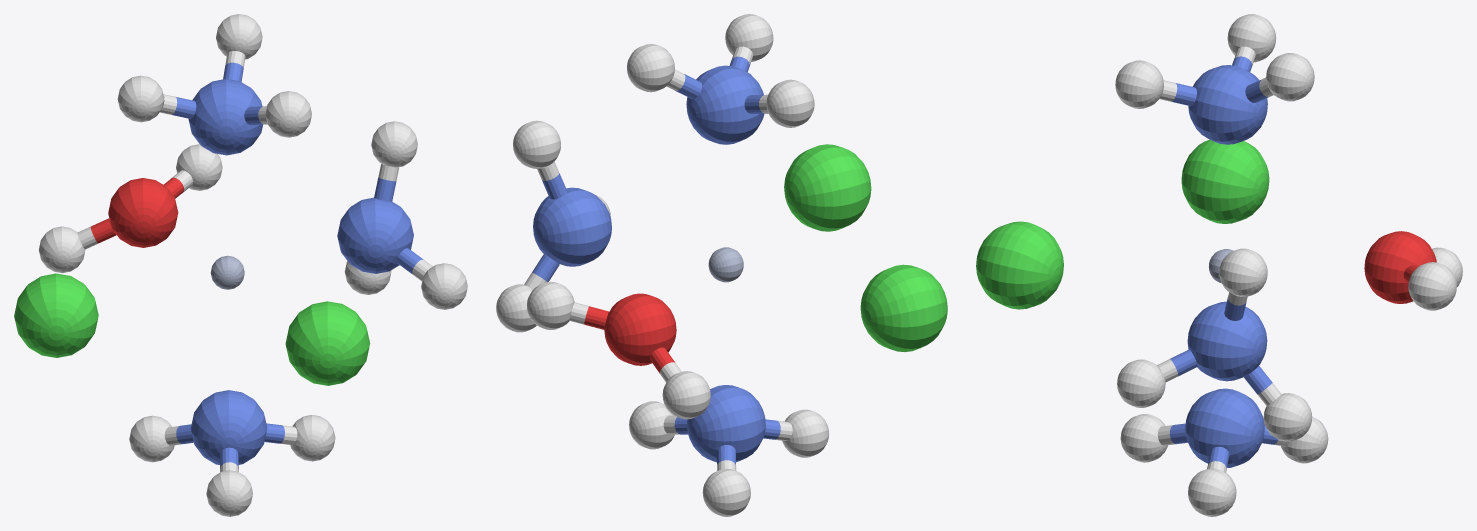
Rendered from levo-mer-acuotriammin-cis-diclorohierro.gltf.
The picture shows the model from 3 angles, left to right: view 1: azimuth 30°, elevation 25°; view 2: azimuth 150°, elevation 25°; view 3: azimuth 270°, elevation 25°; orthographic projection. The views are drawn at different scales.
Visible parts, largest first — view 1: ShapeSphere.010_ShapeSphere.029, ShapeSphere.011_ShapeSphere.030, ShapeSphere.004_ShapeSphere.023, ShapeSphere.001_ShapeSphere.020, ShapeSphere.007_ShapeSphere.026, ShapeSphere.015_ShapeSphere.034, ShapeSphere.006_ShapeSphere.025, ShapeSphere.009_ShapeSphere.028, ShapeSphere.008_ShapeSphere.027, ShapeSphere.002_ShapeSphere.021, ShapeSphere.005_ShapeSphere.024, ShapeSphere.017_ShapeSphere (+6 smaller); view 2: ShapeSphere.010_ShapeSphere.029, ShapeSphere.011_ShapeSphere.030, ShapeSphere.004_ShapeSphere.023, ShapeSphere.007_ShapeSphere.026, ShapeSphere.001_ShapeSphere.020, ShapeSphere.015_ShapeSphere.034, ShapeSphere.008_ShapeSphere.027, ShapeSphere.014_ShapeSphere.033, ShapeSphere.017_ShapeSphere, ShapeSphere.003_ShapeSphere.022, ShapeSphere.005_ShapeSphere.024, ShapeSphere.016_ShapeSphere.035 (+5 smaller); view 3: ShapeSphere.010_ShapeSphere.029, ShapeSphere.011_ShapeSphere.030, ShapeSphere.001_ShapeSphere.020, ShapeSphere.004_ShapeSphere.023, ShapeSphere.007_ShapeSphere.026, ShapeSphere.015_ShapeSphere.034, ShapeSphere.016_ShapeSphere.035, ShapeSphere.012_ShapeSphere.031, ShapeSphere.014_ShapeSphere.033, ShapeSphere.009_ShapeSphere.028, ShapeSphere.005_ShapeSphere.024, ShapeSphere.006_ShapeSphere.025 (+5 smaller).
Boxes of the visible parts, x1,y1,x2,y2 form: ShapeSphere.010_ShapeSphere.029: (285, 301, 370, 385); ShapeSphere.011_ShapeSphere.030: (14, 273, 98, 357); ShapeSphere.004_ShapeSphere.023: (337, 197, 413, 273); ShapeSphere.001_ShapeSphere.020: (190, 390, 267, 464); ShapeSphere.007_ShapeSphere.026: (188, 79, 262, 155); ShapeSphere.015_ShapeSphere.034: (108, 178, 178, 247); ShapeSphere.006_ShapeSphere.025: (421, 263, 467, 309); ShapeSphere.009_ShapeSphere.028: (265, 91, 311, 137); ShapeSphere.008_ShapeSphere.027: (117, 75, 164, 122); ShapeSphere.002_ShapeSphere.021: (206, 470, 252, 516); ShapeSphere.005_ShapeSphere.024: (371, 121, 417, 167); ShapeSphere.017_ShapeSphere: (39, 226, 85, 273); ShapeSphere.010_ShapeSphere.029: (784, 144, 871, 231); ShapeSphere.011_ShapeSphere.030: (860, 264, 947, 351); ShapeSphere.004_ShapeSphere.023: (533, 187, 611, 266); ShapeSphere.007_ShapeSphere.026: (686, 65, 764, 144); ShapeSphere.001_ShapeSphere.020: (687, 385, 765, 462); ShapeSphere.015_ShapeSphere.034: (604, 293, 676, 365); ShapeSphere.008_ShapeSphere.027: (766, 79, 814, 127); ShapeSphere.014_ShapeSphere.033: (627, 44, 674, 92); ShapeSphere.017_ShapeSphere: (662, 371, 710, 419); ShapeSphere.003_ShapeSphere.022: (702, 468, 750, 516); ShapeSphere.005_ShapeSphere.024: (513, 120, 560, 168); ShapeSphere.016_ShapeSphere.035: (526, 281, 574, 329); ShapeSphere.010_ShapeSphere.029: (976, 221, 1063, 309); ShapeSphere.011_ShapeSphere.030: (1181, 139, 1269, 223); ShapeSphere.001_ShapeSphere.020: (1185, 388, 1264, 467); ShapeSphere.004_ShapeSphere.023: (1187, 301, 1267, 381); ShapeSphere.007_ShapeSphere.026: (1188, 65, 1267, 144); ShapeSphere.015_ShapeSphere.034: (1364, 231, 1436, 303); ShapeSphere.016_ShapeSphere.035: (1408, 262, 1456, 310); ShapeSphere.012_ShapeSphere.031: (1188, 468, 1236, 516); ShapeSphere.014_ShapeSphere.033: (1266, 53, 1314, 101); ShapeSphere.009_ShapeSphere.028: (1115, 60, 1163, 108); ShapeSphere.005_ShapeSphere.024: (1219, 248, 1267, 296); ShapeSphere.006_ShapeSphere.025: (1117, 359, 1165, 407).
Size of the model in its own units: 4.99 by 5.06 by 5.
